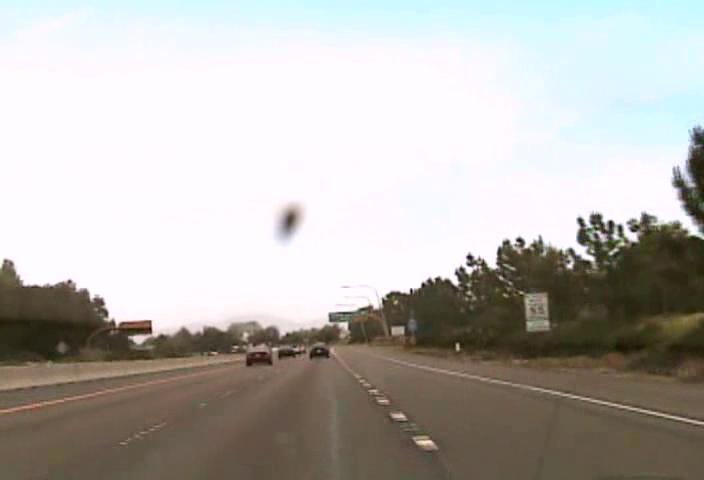truckSpeedLimit55: (522, 291, 551, 333)
